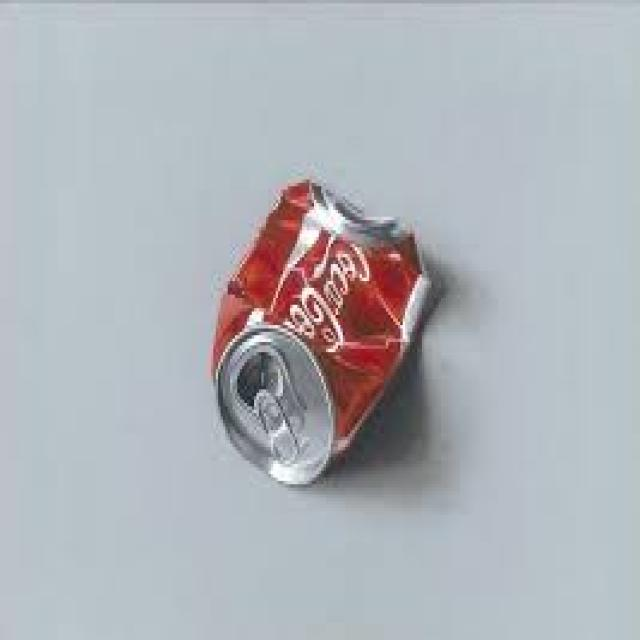metal: (209, 173, 429, 488)
